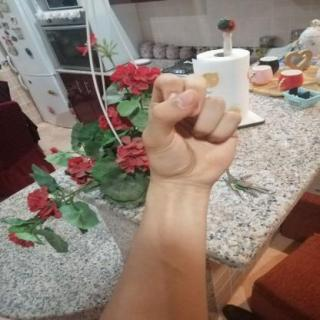QAAF: (128, 62, 248, 194)
